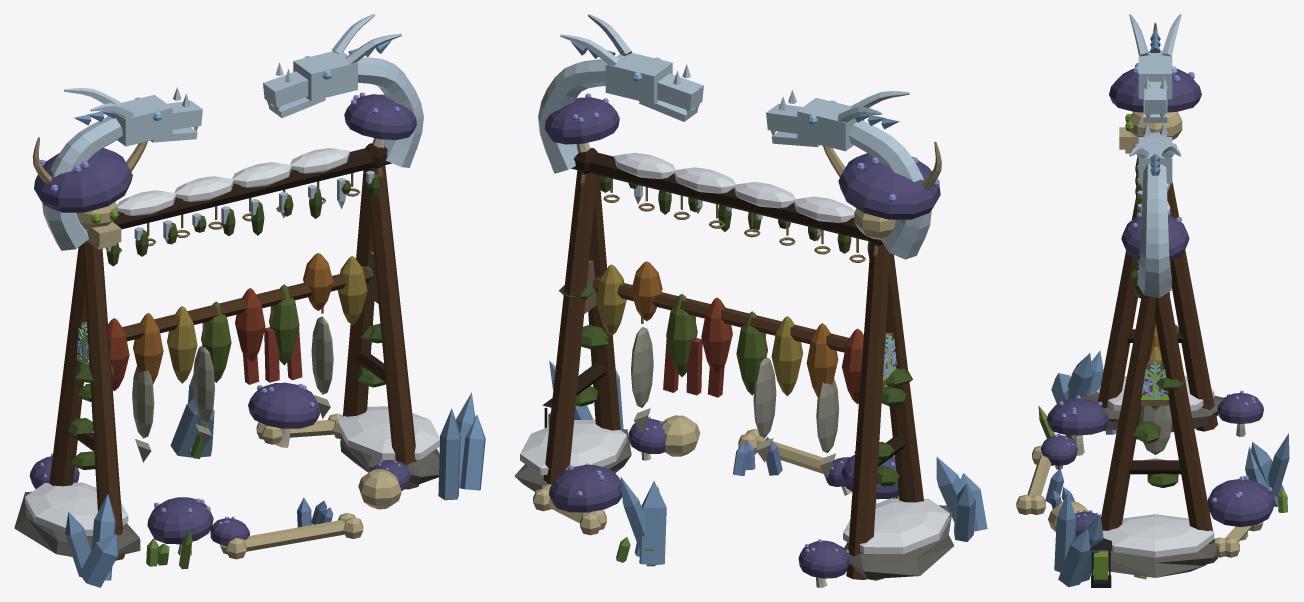
The model's file is VFP_RuneDryingRack.obj.
3 renders of one model, left to right at view 1: azimuth 30°, elevation 25°; view 2: azimuth 150°, elevation 25°; view 3: azimuth 270°, elevation 25°, orthographic. The views are drawn at different scales.
Visible parts, largest first — view 1: B_Frame, S4_Dragons, S3_Caps, S4_Frost, S4_Crystals, S2_Bones, D_Fish, S2_Moss, B_Beam, B_Frame_stone, D_herb_yellow, D_herb_green (+12 smaller); view 2: B_Frame, S4_Dragons, S3_Caps, S4_Frost, S4_Crystals, D_Fish, S2_Moss, B_Beam, S2_Bones, B_Frame_stone, D_herb_yellow, D_herb_green (+10 smaller); view 3: B_Frame, S3_Caps, S4_Dragons, S4_Crystals, S4_Frost, B_Frame_stone, S2_Bones, S2_Moss, S2_Skull, D_Fish, B_Frame_wood_dark, S3_Spots (+6 smaller).
Boxes of the visible parts, x1,y1,x2,y2 form: B_Frame: [49, 165, 419, 560]; S4_Dragons: [42, 14, 423, 250]; S3_Caps: [29, 94, 416, 545]; S4_Frost: [25, 148, 439, 535]; S4_Crystals: [65, 375, 485, 587]; S2_Bones: [220, 413, 401, 559]; D_Fish: [132, 316, 333, 462]; S2_Moss: [68, 173, 385, 469]; B_Beam: [113, 146, 391, 229]; B_Frame_stone: [14, 436, 439, 556]; D_herb_yellow: [167, 256, 367, 383]; D_herb_green: [201, 284, 299, 382]; B_Frame: [543, 170, 923, 579]; S4_Dragons: [538, 14, 931, 259]; S3_Caps: [544, 97, 940, 578]; S4_Frost: [520, 152, 949, 553]; S4_Crystals: [549, 360, 987, 564]; D_Fish: [631, 327, 839, 477]; S2_Moss: [559, 175, 912, 486]; B_Beam: [571, 153, 869, 241]; S2_Bones: [533, 415, 824, 535]; B_Frame_stone: [514, 429, 954, 580]; D_herb_yellow: [596, 264, 802, 396]; D_herb_green: [666, 294, 767, 395]; B_Frame: [1098, 181, 1217, 564]; S3_Caps: [1041, 69, 1274, 536]; S4_Dragons: [1129, 14, 1181, 297]; S4_Crystals: [1051, 350, 1289, 586]; S4_Frost: [1096, 183, 1214, 557]; B_Frame_stone: [1080, 394, 1223, 577]; S2_Bones: [1016, 445, 1263, 557]; S2_Moss: [1130, 157, 1185, 487]; S2_Skull: [1119, 112, 1182, 153]; D_Fish: [1139, 405, 1171, 460]; B_Frame_wood_dark: [1127, 329, 1184, 474]; S3_Spots: [1055, 63, 1272, 517].
Bounding box in the file's own units: 2.85 × 2.95 × 1.76.
